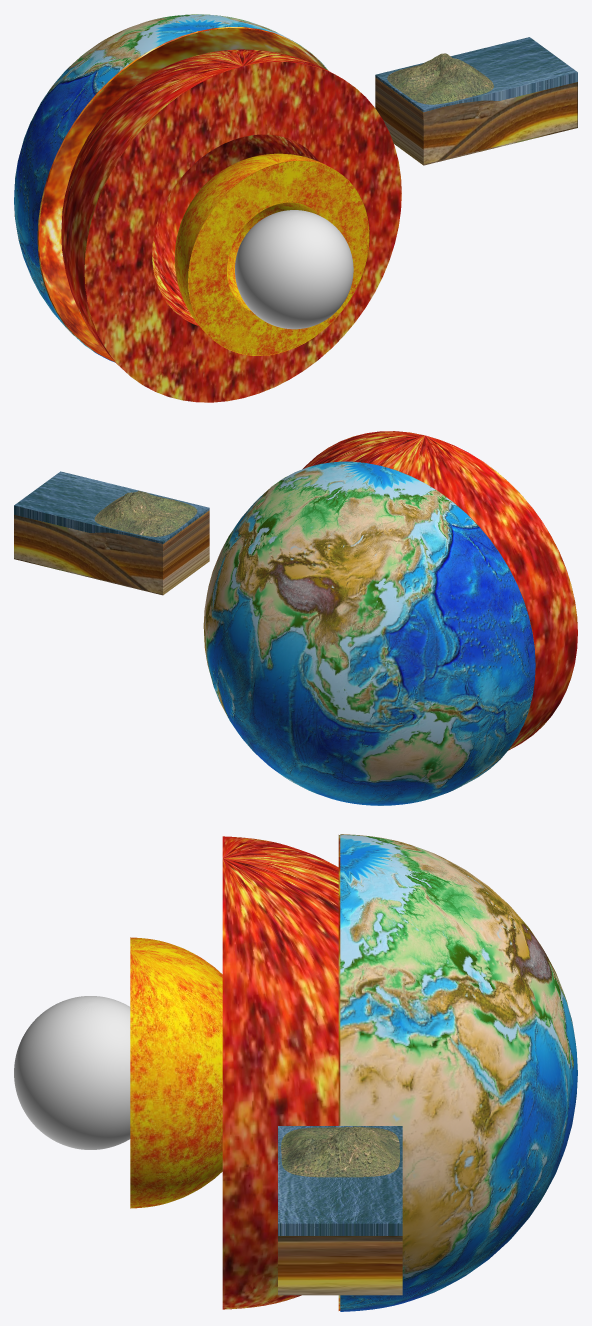
The model's file is earth_core_v2.glb.
3 views of the same model, one above another, from view 1: azimuth 30°, elevation 25°; view 2: azimuth 150°, elevation 25°; view 3: azimuth 270°, elevation 25° (orthographic). The views are drawn at different scales.
Visible parts, largest first — view 1: Material_007-material, Material_012-material, Material_002-material, Material_005-material, Material_013-material, Material_003-material, Material_016-material, Material_006-material, Material_021-material (×2), Material_014-material, Material_009-material, Material_019-material (+2 smaller); view 2: Material_002-material, Material_005-material, Material_018-material, Material_014-material, Material_021-material (×2), Material_019-material; view 3: Material_002-material, Material_005-material, Material_009-material, Material_013-material, Material_021-material (×2), Material_014-material, Material_017-material, Material_003-material.
Part boxes in pixels (x1,y1,x2,y2): Material_007-material: [84, 62, 401, 402]; Material_012-material: [188, 161, 369, 355]; Material_002-material: [14, 14, 328, 362]; Material_005-material: [61, 49, 342, 365]; Material_013-material: [235, 210, 353, 329]; Material_003-material: [37, 27, 327, 361]; Material_016-material: [423, 82, 577, 165]; Material_006-material: [152, 134, 319, 326]; Material_021-material (×2): [387, 53, 493, 104]; Material_014-material: [375, 37, 577, 112]; Material_009-material: [174, 153, 369, 355]; Material_019-material: [375, 85, 423, 164]; Material_002-material: [203, 461, 535, 805]; Material_005-material: [302, 431, 577, 750]; Material_018-material: [14, 515, 162, 595]; Material_014-material: [14, 471, 209, 543]; Material_021-material (×2): [94, 491, 197, 536]; Material_019-material: [163, 517, 209, 594]; Material_002-material: [340, 834, 577, 1311]; Material_005-material: [222, 836, 338, 1309]; Material_009-material: [130, 937, 222, 1208]; Material_013-material: [14, 996, 130, 1149]; Material_021-material (×2): [281, 1126, 399, 1177]; Material_014-material: [278, 1126, 402, 1235]; Material_017-material: [278, 1236, 402, 1295]; Material_003-material: [338, 835, 340, 1310].
Size of the model in its own units: 3.2 by 1.99 by 2.34.
Materials: 19 (17 with a texture image).
